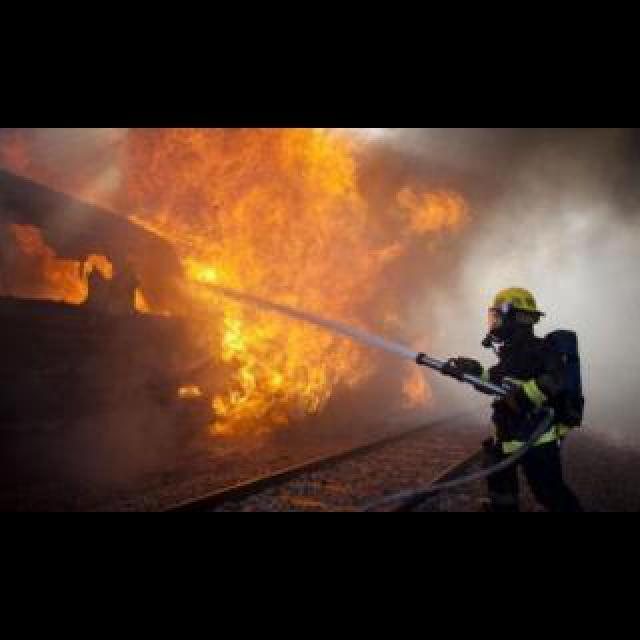fire: (462, 113, 637, 441)
smoke: (98, 128, 464, 436)
